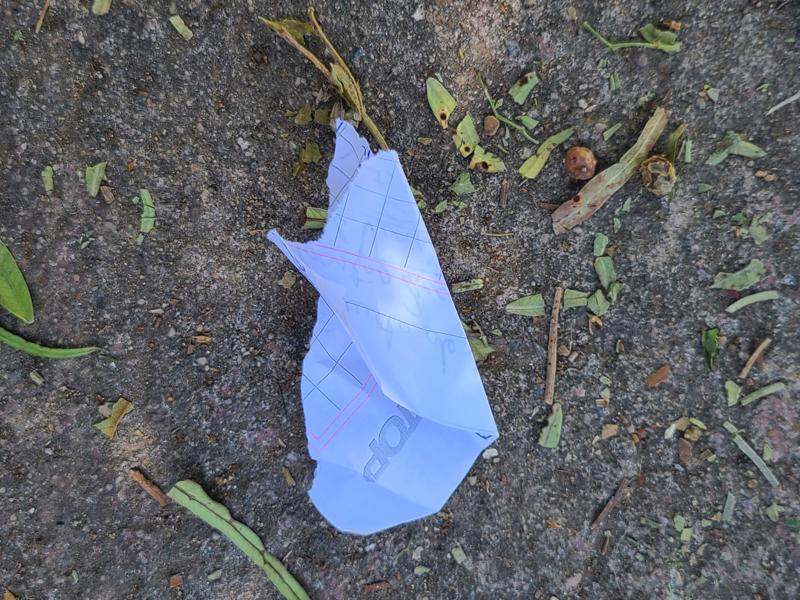papel: (266, 121, 499, 538)
